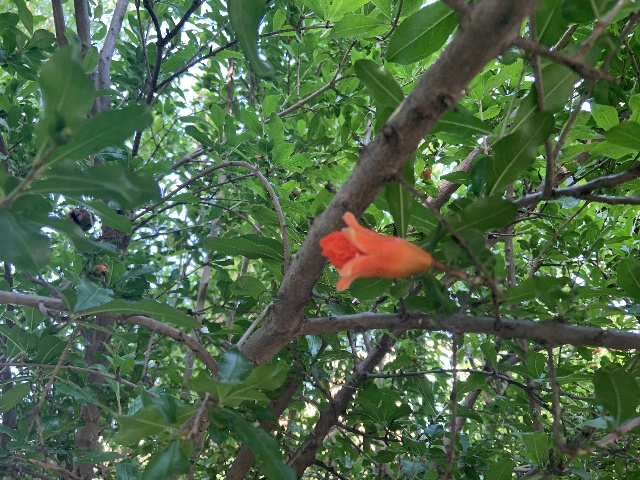bud: (93, 264, 106, 273)
flower: (319, 212, 432, 291)
